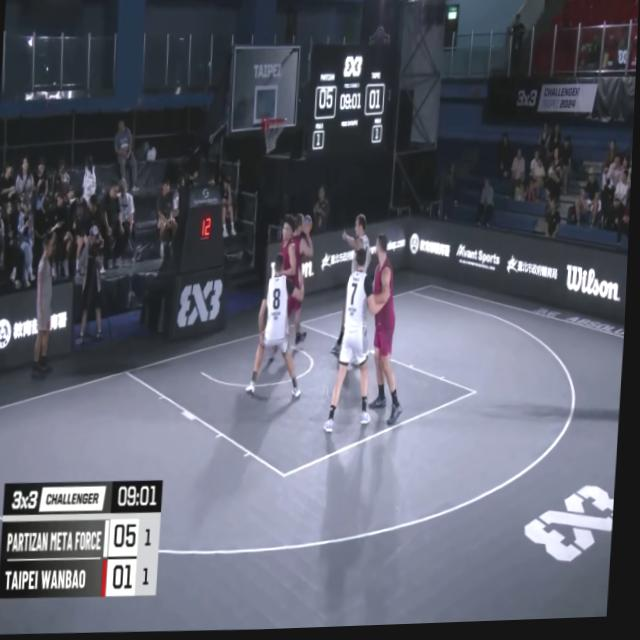ball: (303, 212, 315, 240)
hoop: (261, 116, 286, 154)
player: (328, 248, 386, 438), (248, 250, 313, 402), (364, 244, 415, 427), (269, 214, 309, 392), (336, 207, 375, 382), (280, 208, 318, 351)
